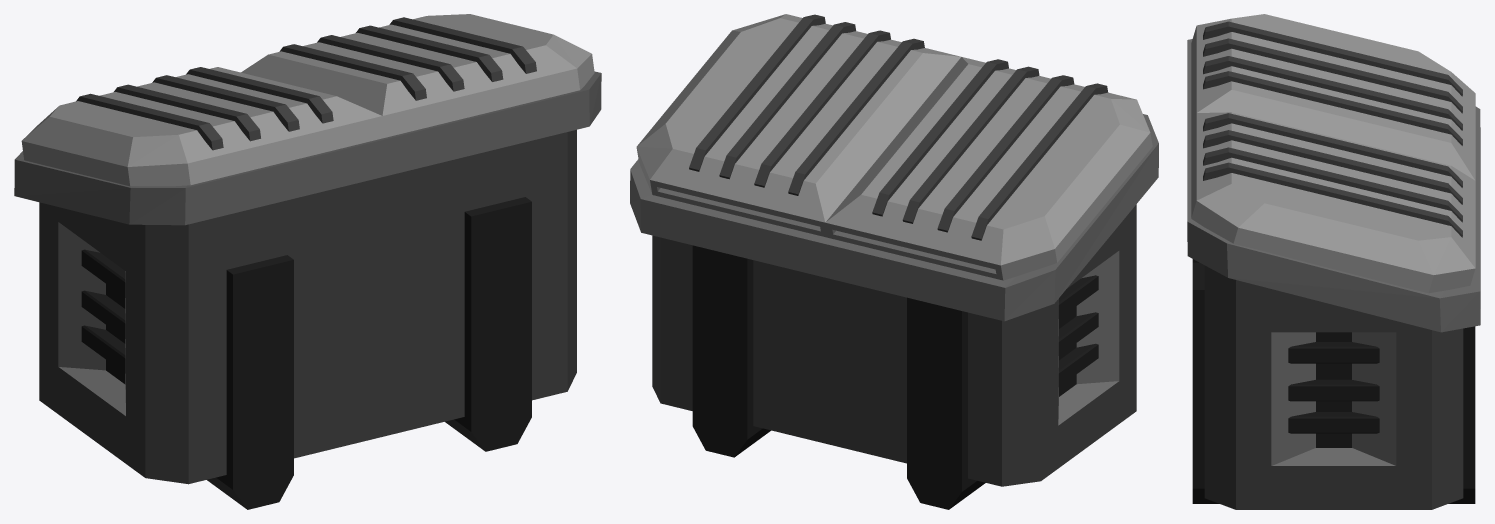
The model's file is dumpster_A.FBX.
3 renders of one model, left to right at view 1: azimuth 30°, elevation 25°; view 2: azimuth 150°, elevation 25°; view 3: azimuth 270°, elevation 25°, orthographic. The views are drawn at different scales.
Visible parts, largest first — view 1: dumpster_A; view 2: dumpster_A; view 3: dumpster_A.
Part boxes in pixels (left/top/right/bottom): dumpster_A: left=14, top=14, right=601, bottom=509; dumpster_A: left=630, top=14, right=1158, bottom=509; dumpster_A: left=1187, top=14, right=1480, bottom=509.
Size of the model in its own units: 178 by 136 by 104.
